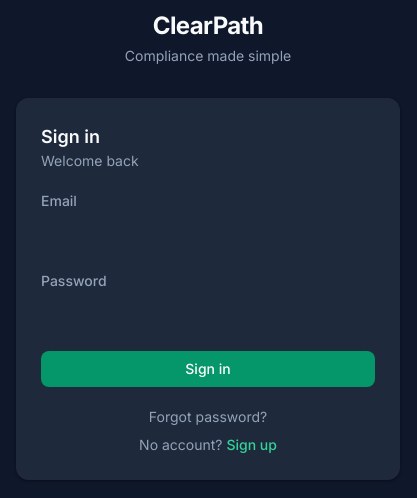
Test: AuthPage › switches to reset view when Forgot password link is clicked
The image size is (417, 498).
Click the button "Forgot password?": (208,417) [149,407,267,427]
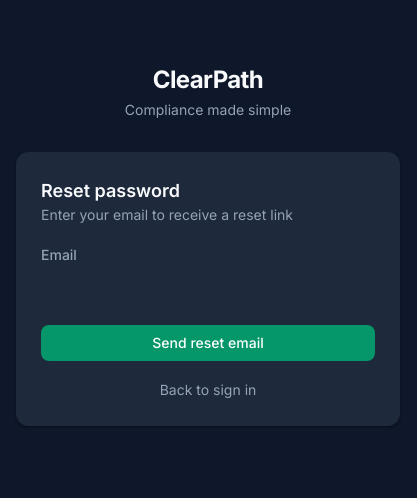
Expected: the button "Send reset email" is shown, [41,325,375,361]
